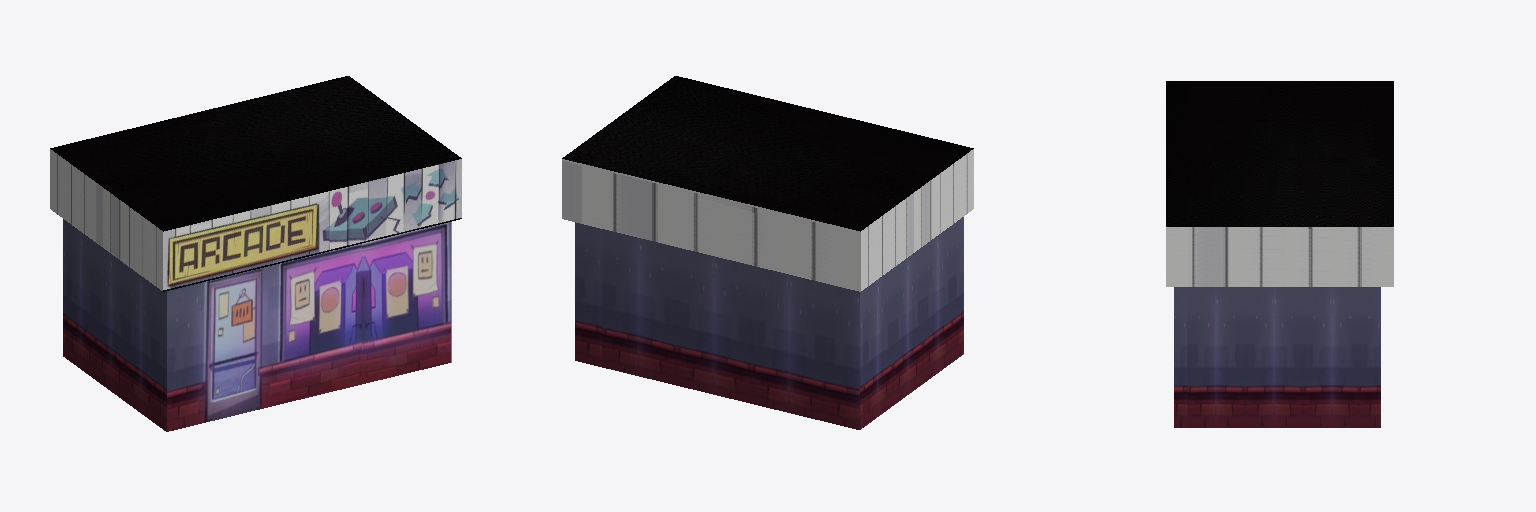
The picture shows the model from 3 angles: view 1: azimuth 30°, elevation 25°; view 2: azimuth 150°, elevation 25°; view 3: azimuth 270°, elevation 25°; orthographic projection.
Parts seen in each view (by area): view 1: Box001; view 2: Box001; view 3: Box001.
Boxes of the visible parts, box(x1,y1,x2,y2) form: Box001: box(50, 76, 461, 431); Box001: box(562, 76, 973, 429); Box001: box(1166, 81, 1393, 427).
Bounding box in the file's own units: 32.38 × 21.2 × 21.31.
Materials: 2 (2 with a texture image).